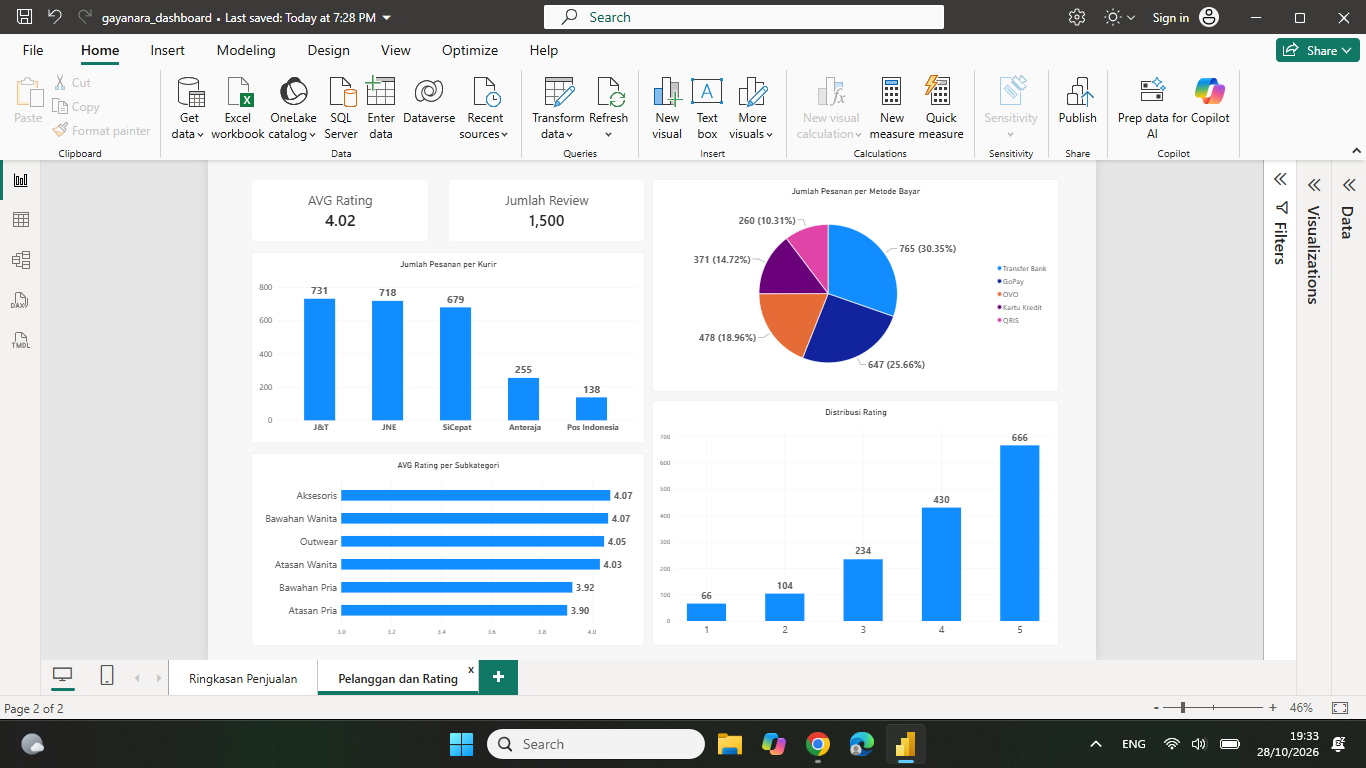

The page's visual inventory and layout, read from the dashboard file:
{"tool":"powerbi","page":{"name":"Pelanggan dan Rating","canvas":[1920,1080],"ordinal":1},"visuals":[{"type":"cardVisual","fields":{"Data":["_MEASURE.AVG Rating"]},"box":[92.9,41,384.5,136.1],"z":0},{"type":"cardVisual","fields":{"Data":["_MEASURE.Jumlah Review"]},"box":[518.4,41,425.5,136.1],"z":1000},{"type":"barChart","title":"AVG Rating per Subkategori","fields":{"Category":["products.sub_category"],"Y":["_MEASURE.AVG Rating"]},"box":[92.9,632.9,851,416.9],"z":2000},{"type":"clusteredColumnChart","title":"Distribusi Rating","fields":{"Category":["reviews.rating"],"Y":["_MEASURE.Jumlah Review"]},"box":[959,518.4,879.1,531.4],"z":3000},{"type":"pieChart","title":"Jumlah Pesanan per Metode Bayar","fields":{"Category":["orders.payment_method"],"Y":["_MEASURE.Jumlah Pesanan"]},"box":[959,41,879.1,460.1],"z":4000},{"type":"columnChart","title":"Jumlah Pesanan per Kurir","fields":{"Category":["orders.courier"],"Y":["_MEASURE.Jumlah Pesanan"]},"box":[92.9,198.7,851,412.6],"z":5000}]}

Visuals, with their boxes on the page's 1920x1080 design canvas (x1, y1, x2, y2). These are canvas units, not pixel positions in the 1366x768 screenshot, which may show the page scaled, cropped or inside an application window:
cardVisual - _MEASURE.AVG Rating: Rect(93, 41, 477, 177)
cardVisual - _MEASURE.Jumlah Review: Rect(518, 41, 944, 177)
"AVG Rating per Subkategori" barChart: Rect(93, 633, 944, 1050)
"Distribusi Rating" clusteredColumnChart: Rect(959, 518, 1838, 1050)
"Jumlah Pesanan per Metode Bayar" pieChart: Rect(959, 41, 1838, 501)
"Jumlah Pesanan per Kurir" columnChart: Rect(93, 199, 944, 611)
